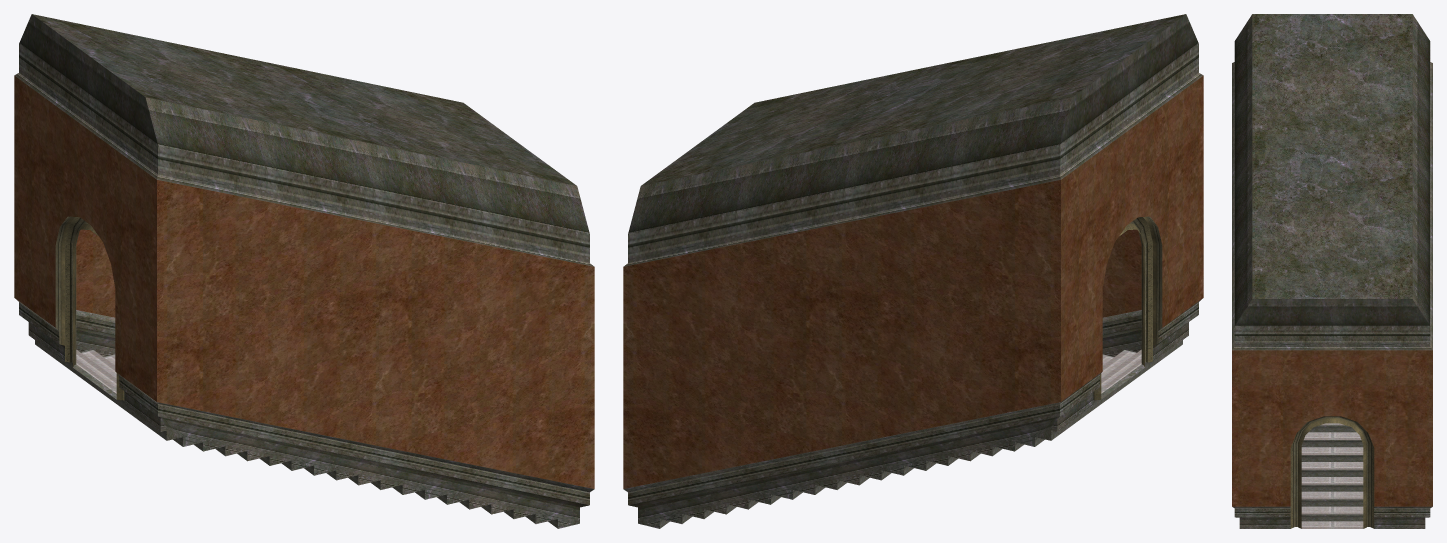
Rendered from thm_nboo_thed_theed_palace_r23_mesh_r23.fbx.
3 views of the same model, side by side, from view 1: azimuth 30°, elevation 25°; view 2: azimuth 150°, elevation 25°; view 3: azimuth 270°, elevation 25° (orthographic). The views are drawn at different scales.
Parts seen in each view (by area): view 1: mesh_node; view 2: mesh_node; view 3: mesh_node.
Part boxes in pixels (left/top/right/bottom): mesh_node: left=14, top=14, right=594, bottom=528; mesh_node: left=623, top=14, right=1203, bottom=528; mesh_node: left=1232, top=14, right=1432, bottom=528.
Size of the model in its own units: 14.18 by 16.2 by 8.
